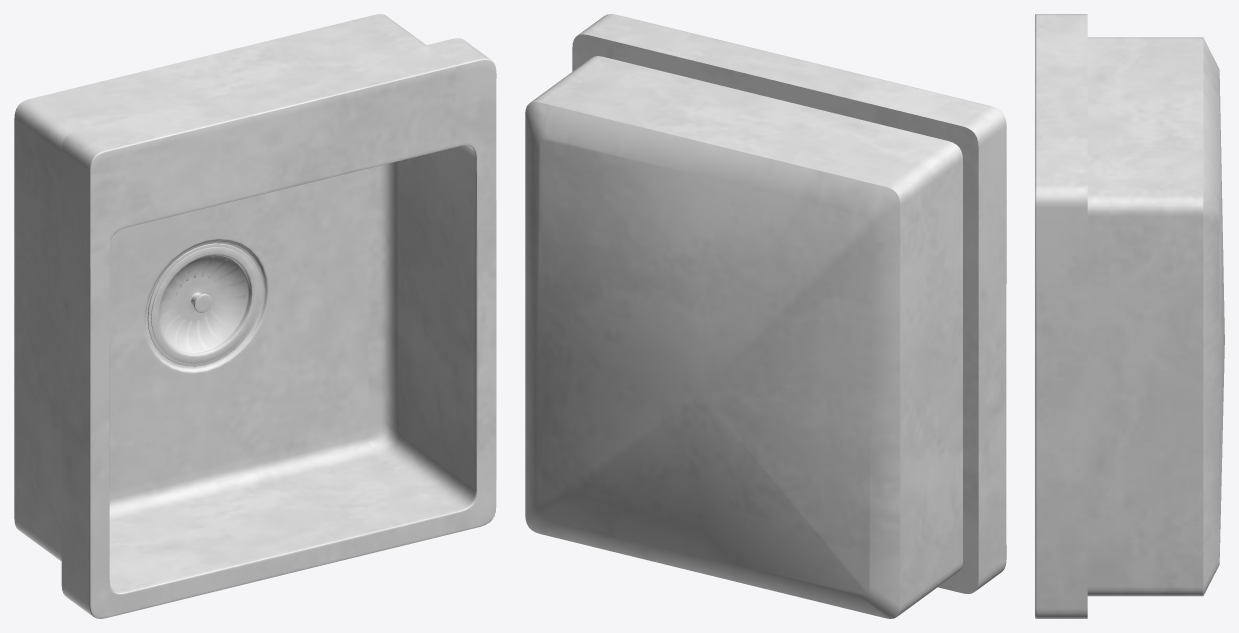
Rendered from SM_Counter_Sink.obj.
The picture shows the model from 3 angles, left to right: view 1: azimuth 30°, elevation 25°; view 2: azimuth 150°, elevation 25°; view 3: azimuth 270°, elevation 25°; orthographic projection. The views are drawn at different scales.
Visible parts, largest first — view 1: SM_Counter_Sink; view 2: SM_Counter_Sink; view 3: SM_Counter_Sink.
Boxes of the visible parts, <box> form: SM_Counter_Sink: <box>14,14,496,618</box>; SM_Counter_Sink: <box>525,14,1006,618</box>; SM_Counter_Sink: <box>1035,14,1224,618</box>.
Size of the model in its own units: 0.405 by 0.445 by 0.1774.
